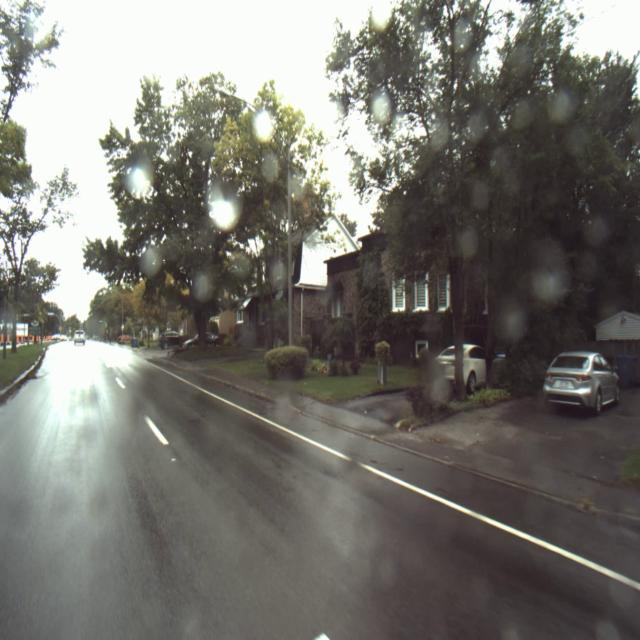car: (543, 351, 622, 414), (436, 344, 491, 392), (158, 331, 186, 351), (73, 329, 86, 345)
